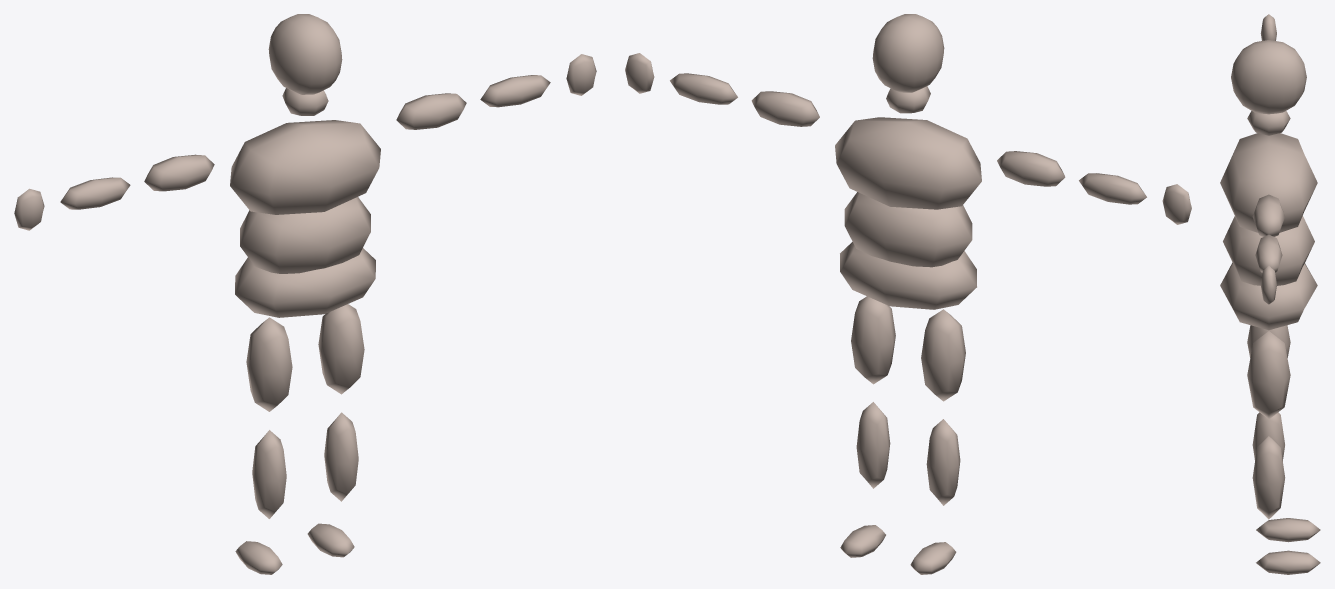
Rendered from humanoid.glb.
The picture shows the model from 3 angles, left to right: view 1: azimuth 30°, elevation 25°; view 2: azimuth 150°, elevation 25°; view 3: azimuth 270°, elevation 25°; orthographic projection. The views are drawn at different scales.
Visible parts, largest first — view 1: Humanoid; view 2: Humanoid; view 3: Humanoid.
Part boxes in pixels (bbox=[...]): Humanoid: bbox=[14, 14, 596, 574]; Humanoid: bbox=[625, 14, 1191, 574]; Humanoid: bbox=[1220, 14, 1320, 574].
Size of the model in its own units: 1.94 by 1.75 by 0.3119.
